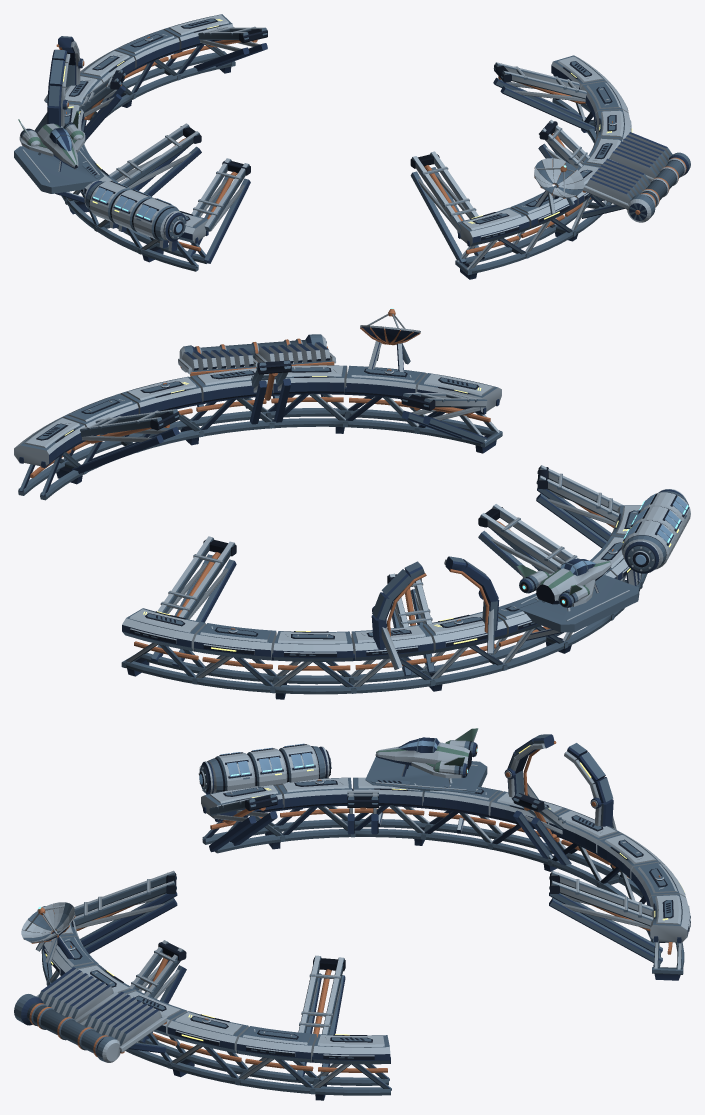
Rendered from kepler-service-dock.glb.
3 views of the same model, one above another, from view 1: azimuth 30°, elevation 25°; view 2: azimuth 150°, elevation 25°; view 3: azimuth 270°, elevation 25° (orthographic). The views are drawn at different scales.
Parts seen in each view (by area): view 1: kepler-service-dock, Survey tender, Tracking reflector; view 2: kepler-service-dock, Survey tender, Tracking reflector; view 3: kepler-service-dock, Survey tender, Tracking reflector.
Part boxes in pixels (x1,y1,x2,y2): kepler-service-dock: (14,14,690,279); Survey tender: (18,110,85,171); Tracking reflector: (534,158,584,198); kepler-service-dock: (14,334,690,699); Survey tender: (516,558,611,611); Tracking reflector: (360,308,420,345); kepler-service-dock: (14,734,690,1100); Survey tender: (375,728,478,783); Tracking reflector: (21,902,75,943).
Bounding box in the file's own units: 33.48 × 6.58 × 32.46.
